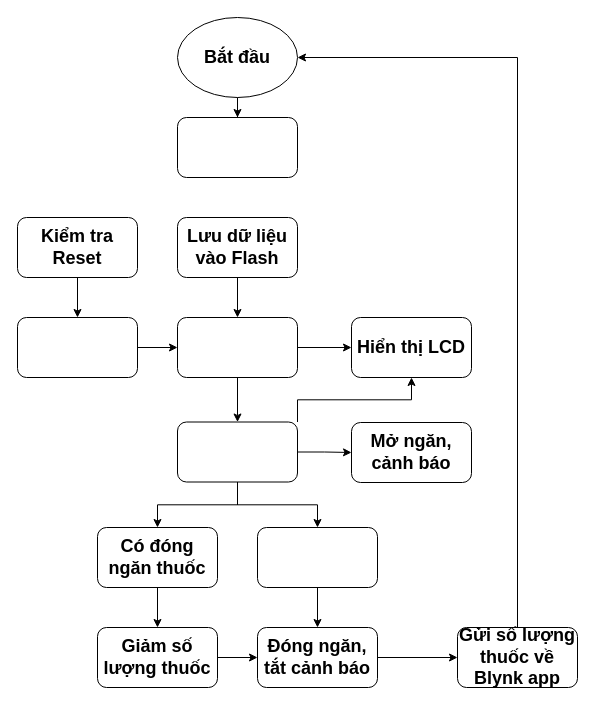
The diagram is 595 pixels wide and 722 high, and some of its shapes have lost their labels. The centre of each missing label's shape, as x and y in pixels:
"Kiểm tra báo thức" belongs at (237,451).
"Quá 30' từ lúc mở ngăn" belongs at (317,557).
"Xoá bộ nhớ Flash" belongs at (77,347).
"Đọc bộ nhớ Flash" belongs at (237,147).
"Đọc dữ liệu từ UART" belongs at (237,347).
